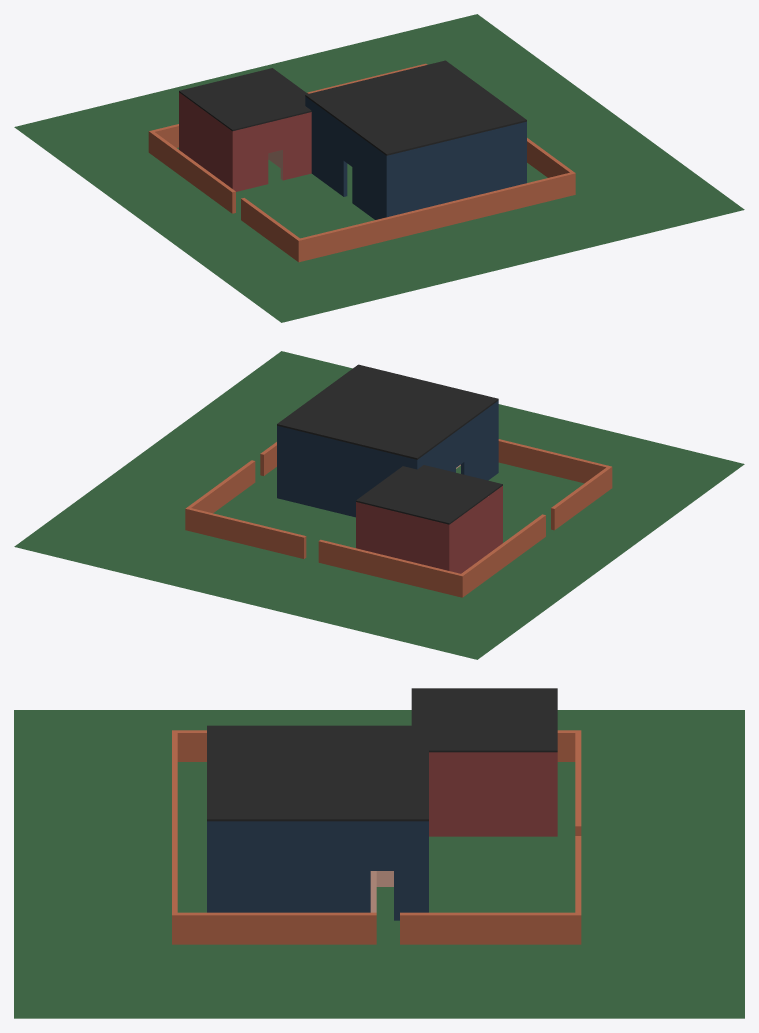
File: Warehouse.fbx
The picture shows the model from 3 angles, top to bottom: view 1: azimuth 30°, elevation 25°; view 2: azimuth 150°, elevation 25°; view 3: azimuth 270°, elevation 25°; orthographic projection. The views are drawn at different scales.
Parts seen in each view (by area): view 1: Plane.003, Plane.002; view 2: Plane.003, Plane.002; view 3: Plane.003, Plane.002.
Part boxes in pixels (<box>): Plane.003: <box>14,14,744,322</box>; Plane.002: <box>148,60,575,262</box>; Plane.003: <box>14,351,744,659</box>; Plane.002: <box>185,364,612,597</box>; Plane.003: <box>14,710,744,1018</box>; Plane.002: <box>172,688,581,944</box>.
Bounding box in the file's own units: 10000 × 1529 × 10000.
